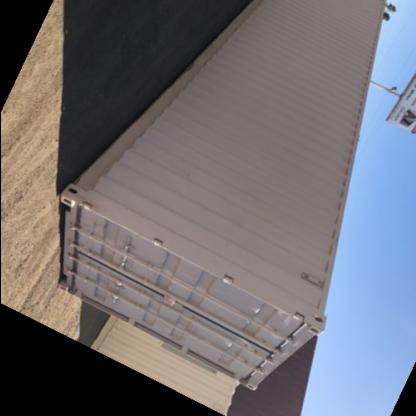Damage: (232, 32, 266, 58)
